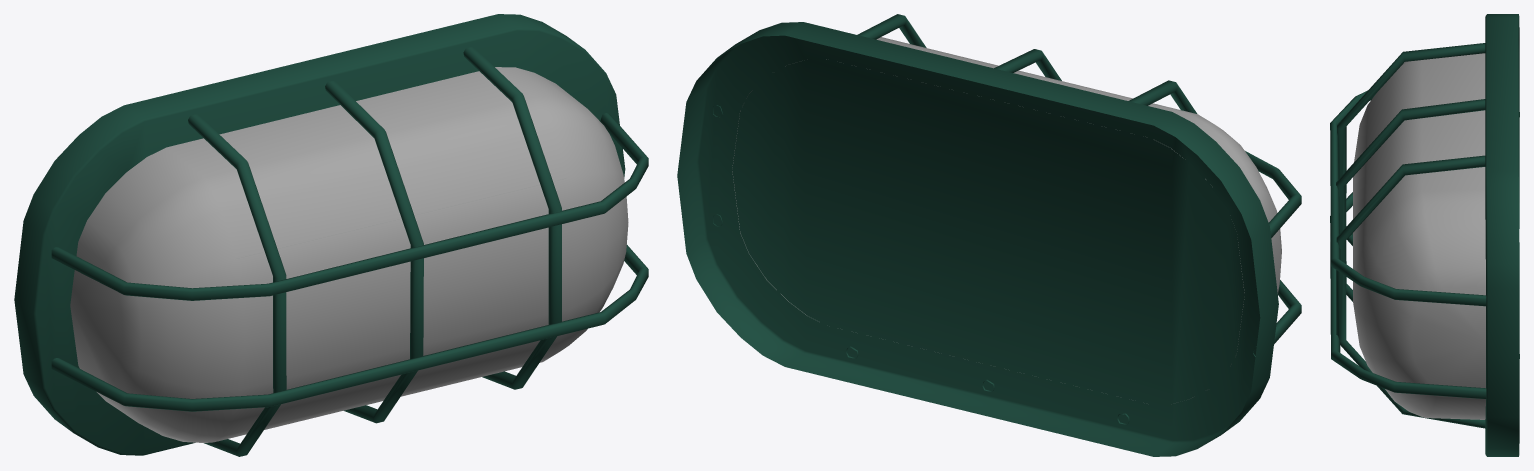
The picture shows the model from 3 angles, left to right: view 1: azimuth 30°, elevation 25°; view 2: azimuth 150°, elevation 25°; view 3: azimuth 270°, elevation 25°; orthographic projection. The views are drawn at different scales.
Parts seen in each view (by area): view 1: Bunker Light; view 2: Bunker Light; view 3: Bunker Light.
Part boxes in pixels (<box>): Bunker Light: <box>14,14,648,456</box>; Bunker Light: <box>677,14,1301,456</box>; Bunker Light: <box>1330,14,1519,456</box>.
Size of the model in its own units: 56.5 by 30.69 by 18.71.
1 material, 1 textured.
